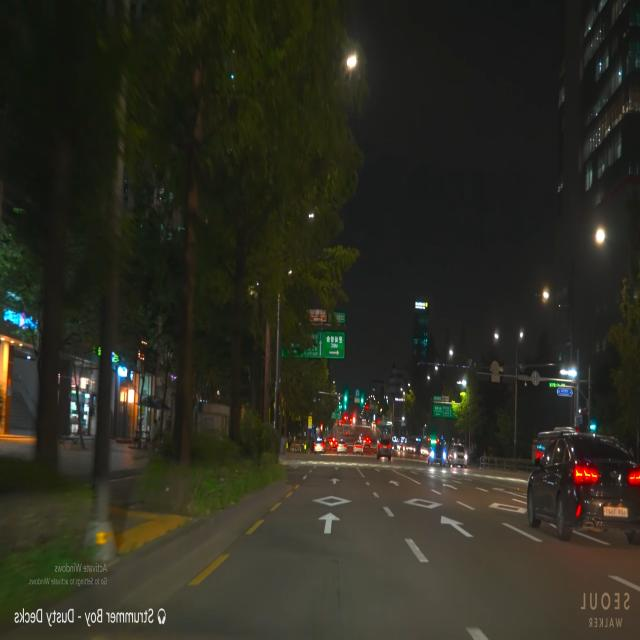headlights: (452, 448, 471, 466), (427, 449, 447, 464)
